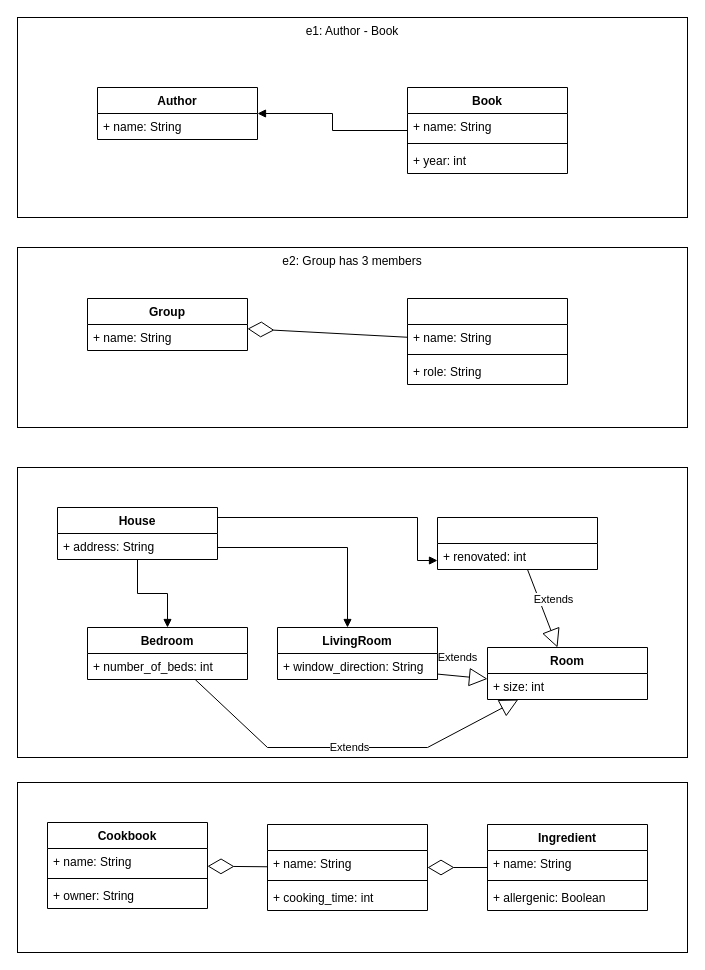
Image size: 705x970. Some labels were removed from this diagram. The shapes that lost their labels are listed below. From the top down, each one's box as (x1, y1, x2, y2) in pixels, then its label:
(406, 298, 568, 384): Member
(436, 516, 598, 570): Kitchen
(16, 466, 688, 758): e3: House with 3 Rooms
(266, 824, 428, 910): Recipe
(16, 782, 688, 952): e4: Cookbook - Recipe - Ingredient
